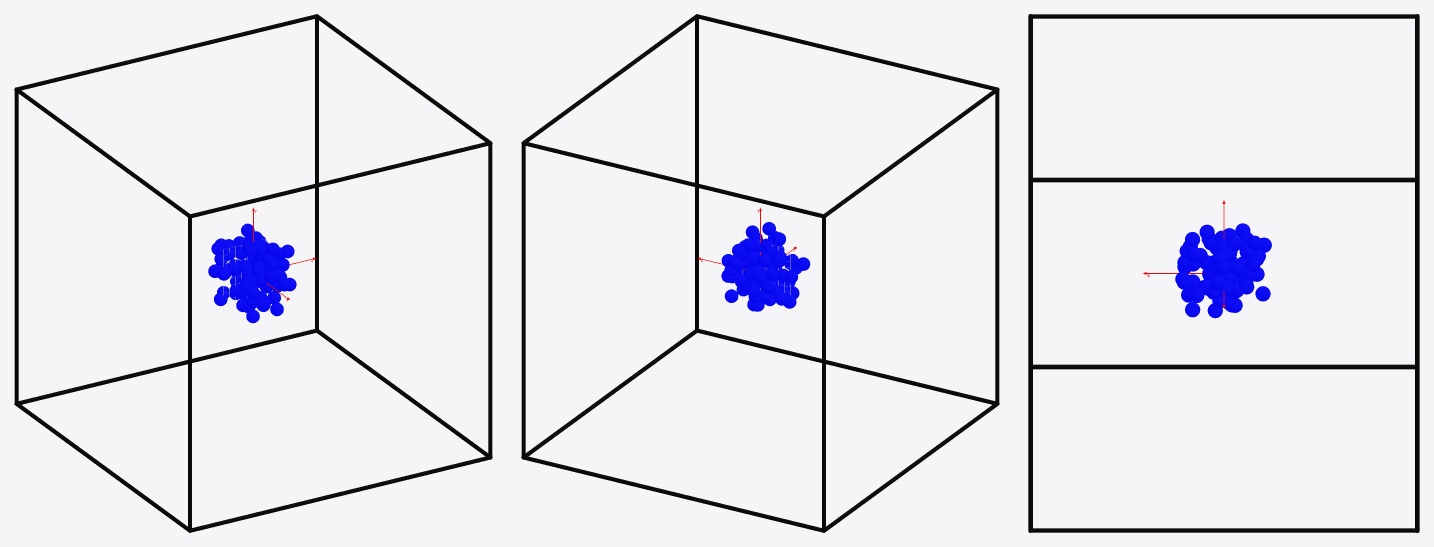
File: TryLiquid2.glb
The picture shows the model from 3 angles, left to right: view 1: azimuth 30°, elevation 25°; view 2: azimuth 150°, elevation 25°; view 3: azimuth 270°, elevation 25°; orthographic projection. The views are drawn at different scales.
Bounding box in the file's own units: 5.06 × 5.06 × 5.06.
